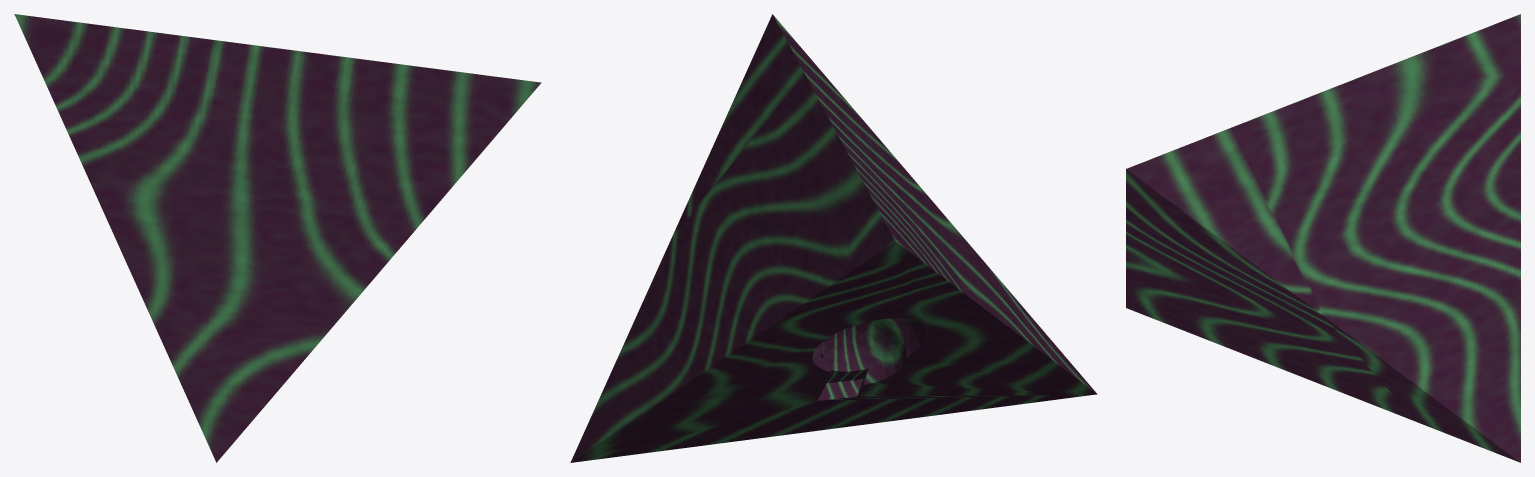
The picture shows the model from 3 angles, left to right: view 1: azimuth 30°, elevation 25°; view 2: azimuth 150°, elevation 25°; view 3: azimuth 270°, elevation 25°; orthographic projection. The views are drawn at different scales.
Visible parts, largest first — view 1: geometry_0; view 2: geometry_0; view 3: geometry_0.
Boxes of the visible parts, x1,y1,x2,y2 form: geometry_0: (14,14,541,462); geometry_0: (570,14,1097,462); geometry_0: (1126,14,1520,462).
Size of the model in its own units: 2.45 by 2.17 by 2.64.
1 material, 1 textured.
